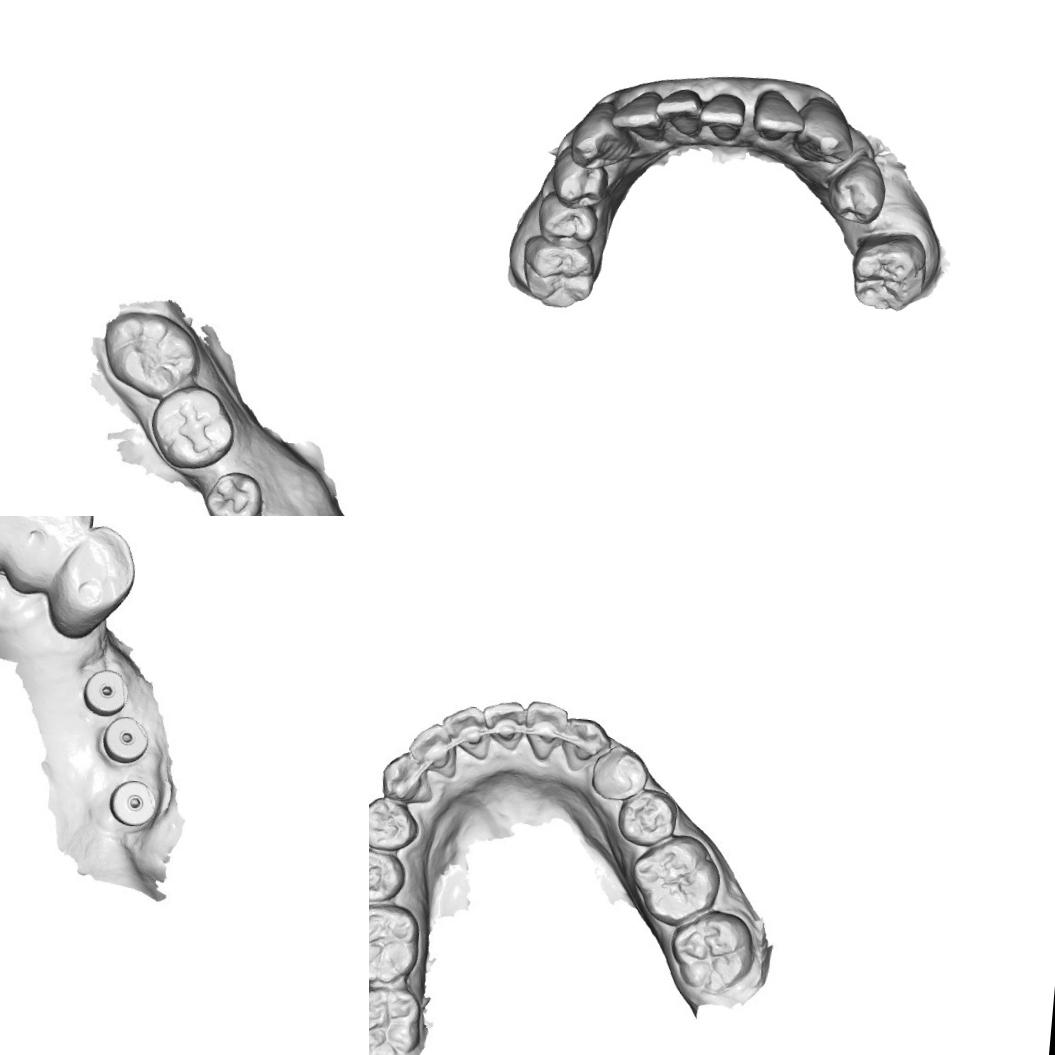canine: (63, 522, 144, 606), (566, 98, 634, 171), (792, 95, 858, 166), (559, 714, 612, 776), (377, 750, 436, 804)
implant: (102, 772, 160, 832), (98, 714, 157, 767), (80, 666, 134, 718)
incisor: (12, 516, 94, 587), (519, 698, 569, 766), (438, 702, 494, 762), (609, 87, 666, 144), (750, 88, 808, 144), (402, 719, 458, 776), (477, 695, 526, 753), (652, 86, 704, 140), (698, 90, 748, 142), (0, 516, 37, 573)
molar: (624, 828, 725, 932), (94, 306, 202, 402), (144, 381, 240, 474), (664, 905, 758, 996), (846, 227, 930, 314), (369, 900, 424, 987), (369, 980, 425, 1055), (520, 232, 597, 282), (520, 269, 594, 311)
premolar: (824, 150, 889, 227), (612, 784, 680, 850), (586, 740, 651, 804), (533, 198, 600, 250), (199, 465, 263, 516), (548, 160, 610, 211), (369, 792, 421, 852), (369, 846, 407, 906)
